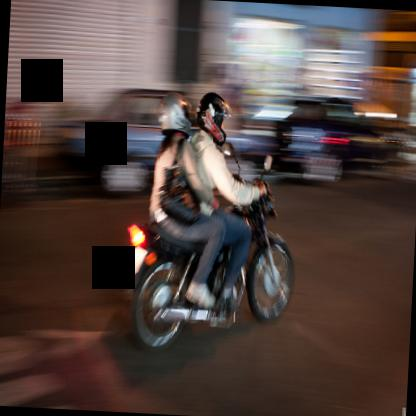handbag: (159, 143, 201, 222)
